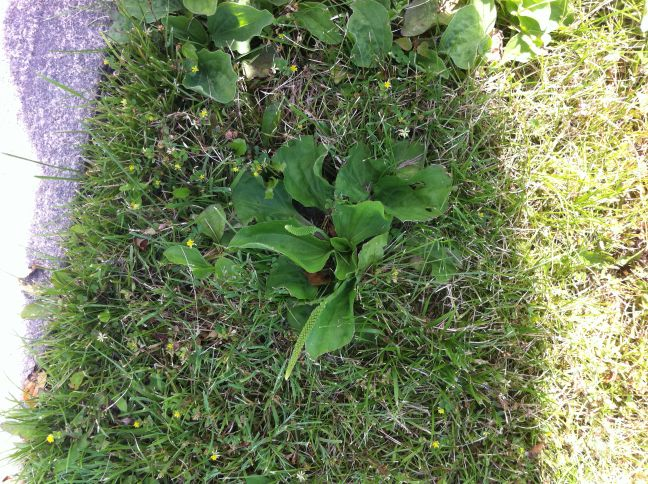weed1: (206, 114, 464, 381), (323, 1, 589, 78), (128, 1, 264, 105)
